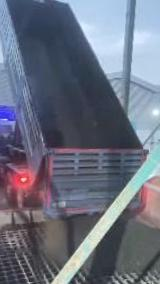gravel: (82, 210, 160, 278), (41, 73, 101, 148), (43, 216, 100, 266)
sand: (151, 170, 160, 191)
